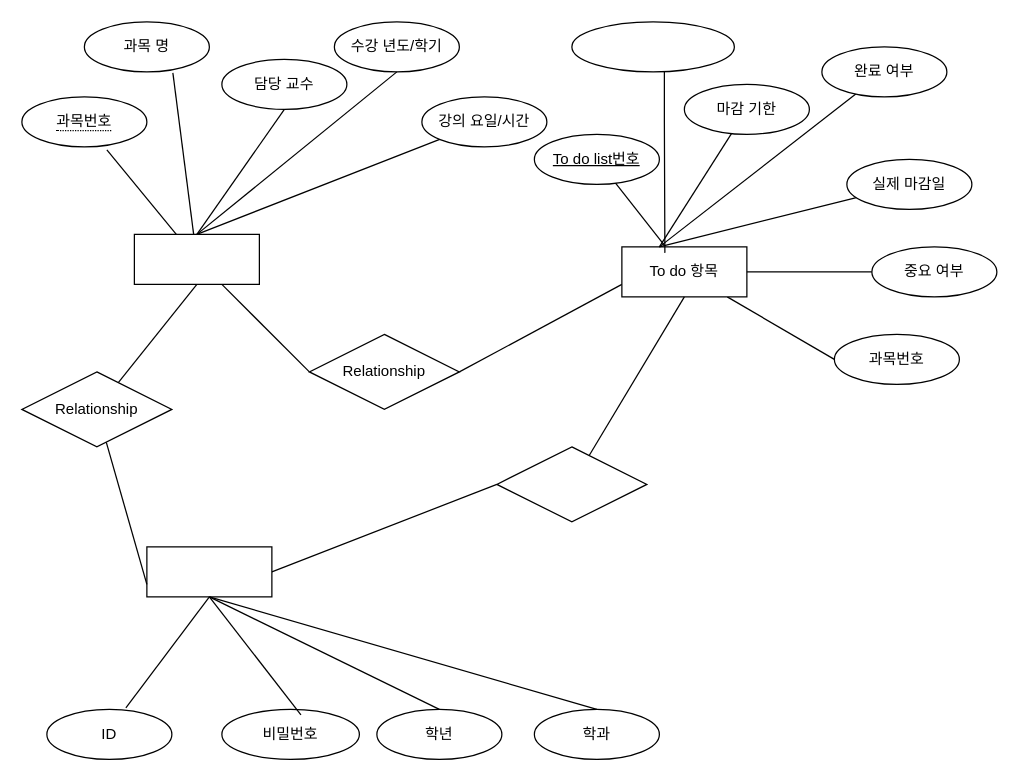
Some shapes in this 1019 by 781 pixel diagram are drawn without their labels. The box of each missing label's shape, as (x1, y1, x2, y2) in pixels:
To do 항목 명: (571, 21, 734, 72)
과목: (133, 233, 259, 284)
등록: (496, 446, 647, 522)
회원: (146, 546, 272, 597)
